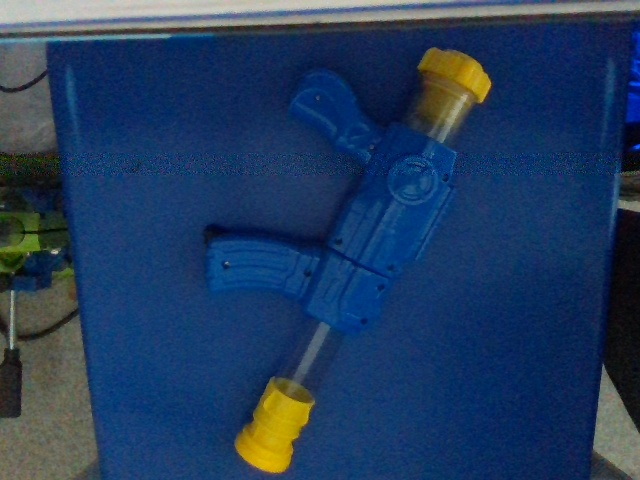screw hole: (303, 268, 312, 278), (386, 264, 396, 273), (222, 260, 231, 269), (368, 142, 376, 152), (442, 173, 450, 183), (334, 237, 343, 245), (377, 283, 385, 292), (361, 317, 368, 326), (314, 93, 321, 101)
toy: (204, 46, 493, 474)
